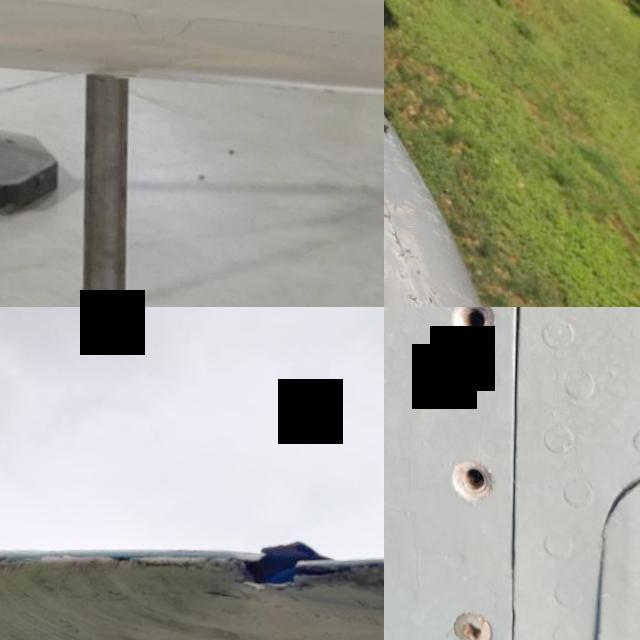Crack: (219, 517, 347, 604)
Missing_Fastener: (426, 428, 528, 530), (427, 307, 522, 362)
